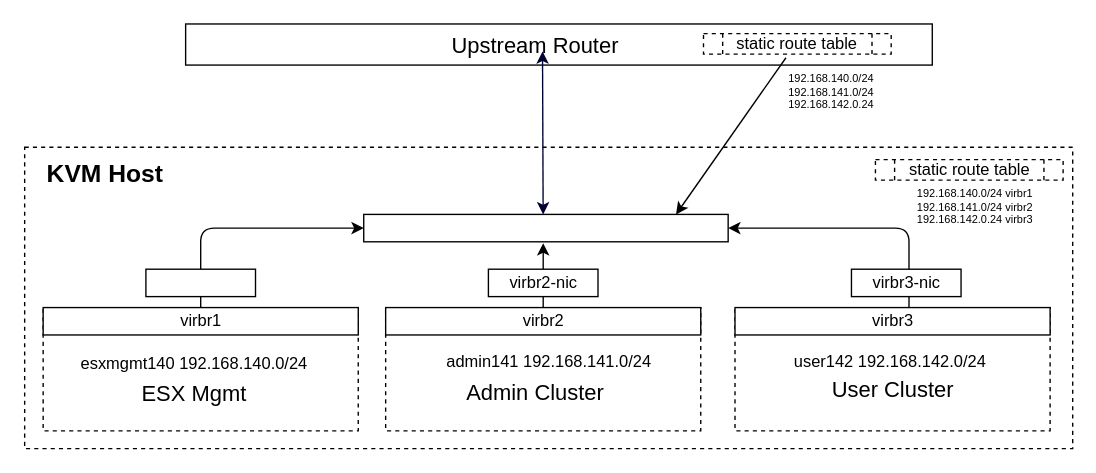
The diagram is 1096 pixels wide and 473 high, and some of its shapes have lost their labels. Each missing label, with the centre of its shape:
primary NIC: point 545,227
virbr1-nic: point 200,282
